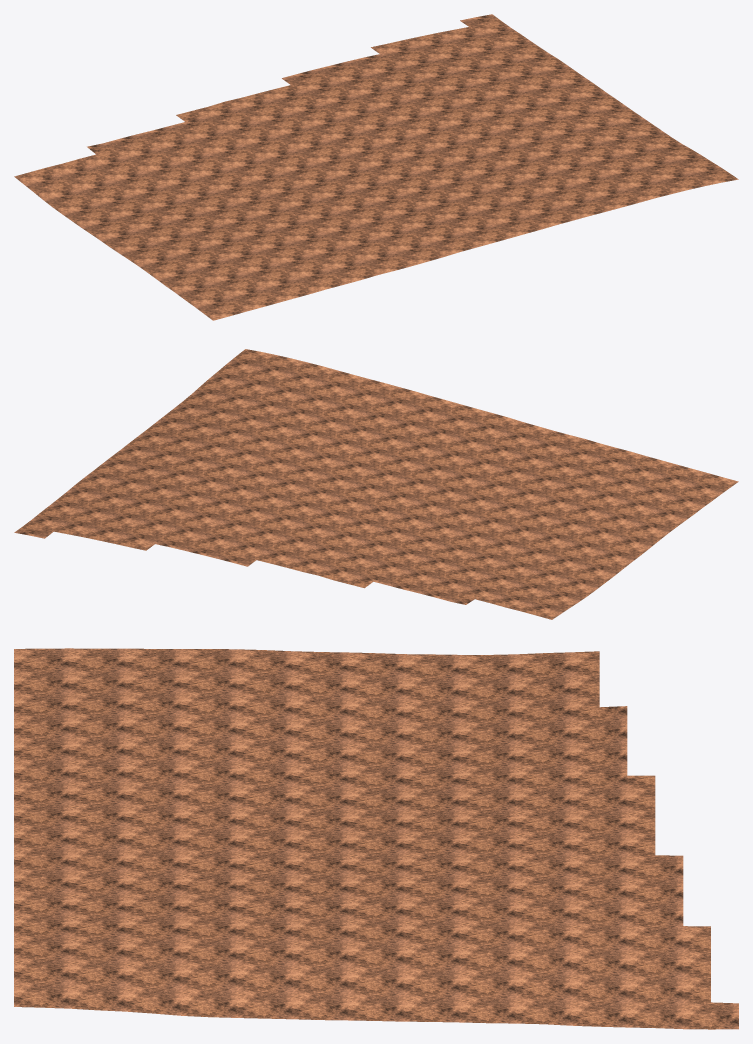
File: terrain_11_12.dae
The picture shows the model from 3 angles, top to bottom: view 1: azimuth 30°, elevation 25°; view 2: azimuth 150°, elevation 25°; view 3: azimuth 270°, elevation 25°; orthographic projection. The views are drawn at different scales.
Parts seen in each view (by area): view 1: terrain_11_12-node; view 2: terrain_11_12-node; view 3: terrain_11_12-node.
Part boxes in pixels (box(x1,y1,x2,y2)): terrain_11_12-node: box(14, 14, 738, 320); terrain_11_12-node: box(14, 349, 738, 619); terrain_11_12-node: box(14, 648, 738, 1029).
Bounding box in the file's own units: 128 × 104 × 4.41.
1 material, 1 textured.
